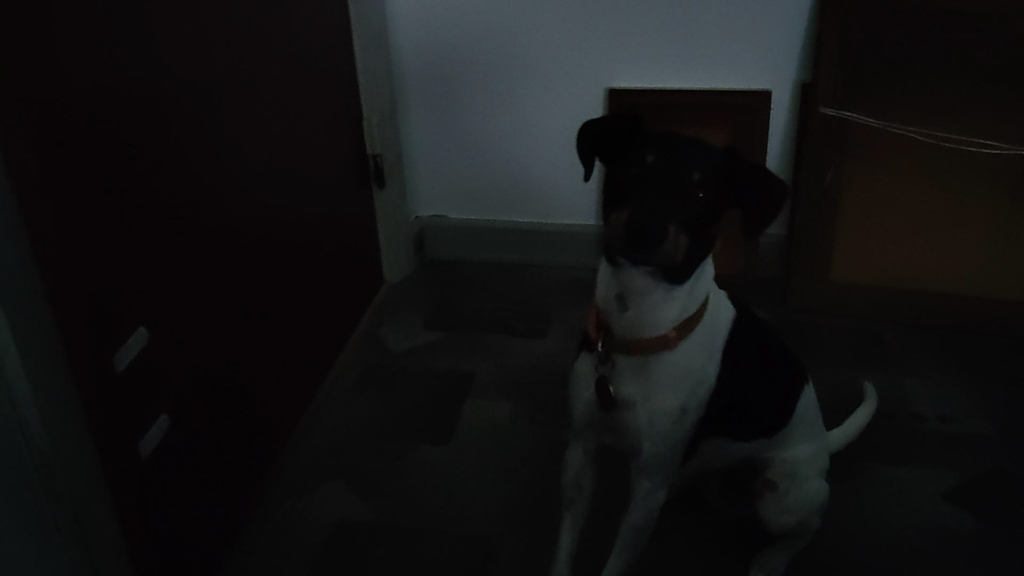Dog: (521, 96, 904, 576)
